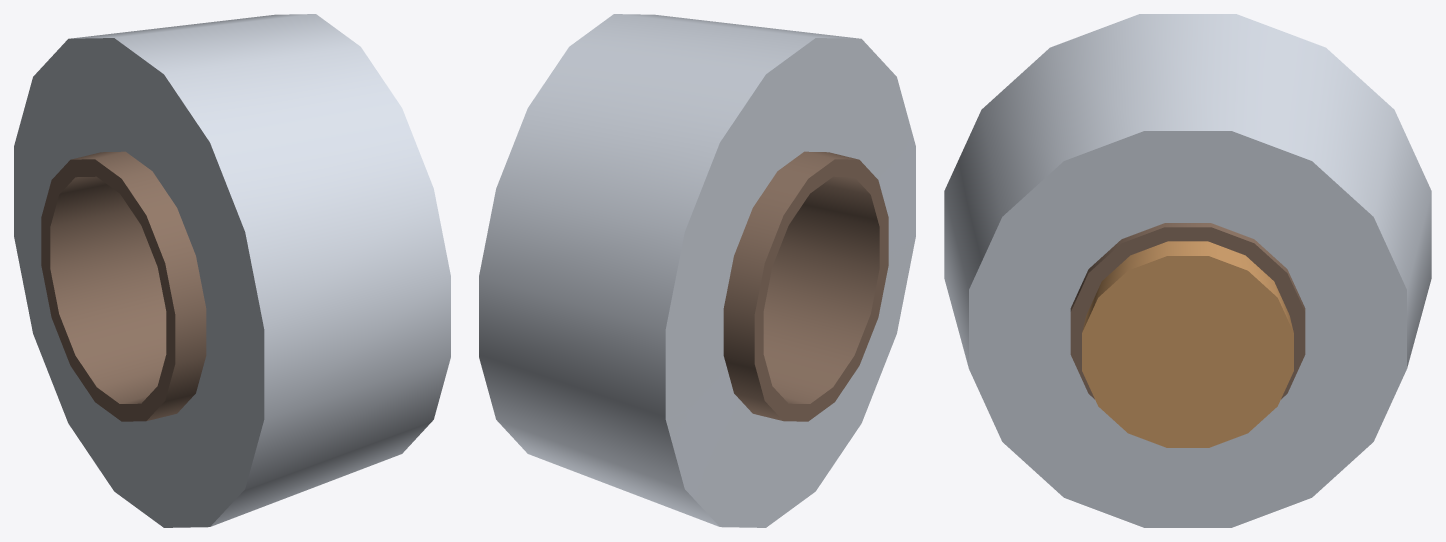
The model's file is Wheel_Large_Paper_Roll_01.fbx.
3 renders of one model, left to right at view 1: azimuth 30°, elevation 25°; view 2: azimuth 150°, elevation 25°; view 3: azimuth 270°, elevation 25°, orthographic. The views are drawn at different scales.
Parts seen in each view (by area): view 1: WH_PaperRoll; view 2: WH_PaperRoll; view 3: WH_PaperRoll.
Boxes of the visible parts, box(x1,y1,x2,y2) form: WH_PaperRoll: box(14, 14, 450, 527); WH_PaperRoll: box(479, 14, 915, 527); WH_PaperRoll: box(944, 14, 1431, 527).
Size of the model in its own units: 103 by 161 by 161.
